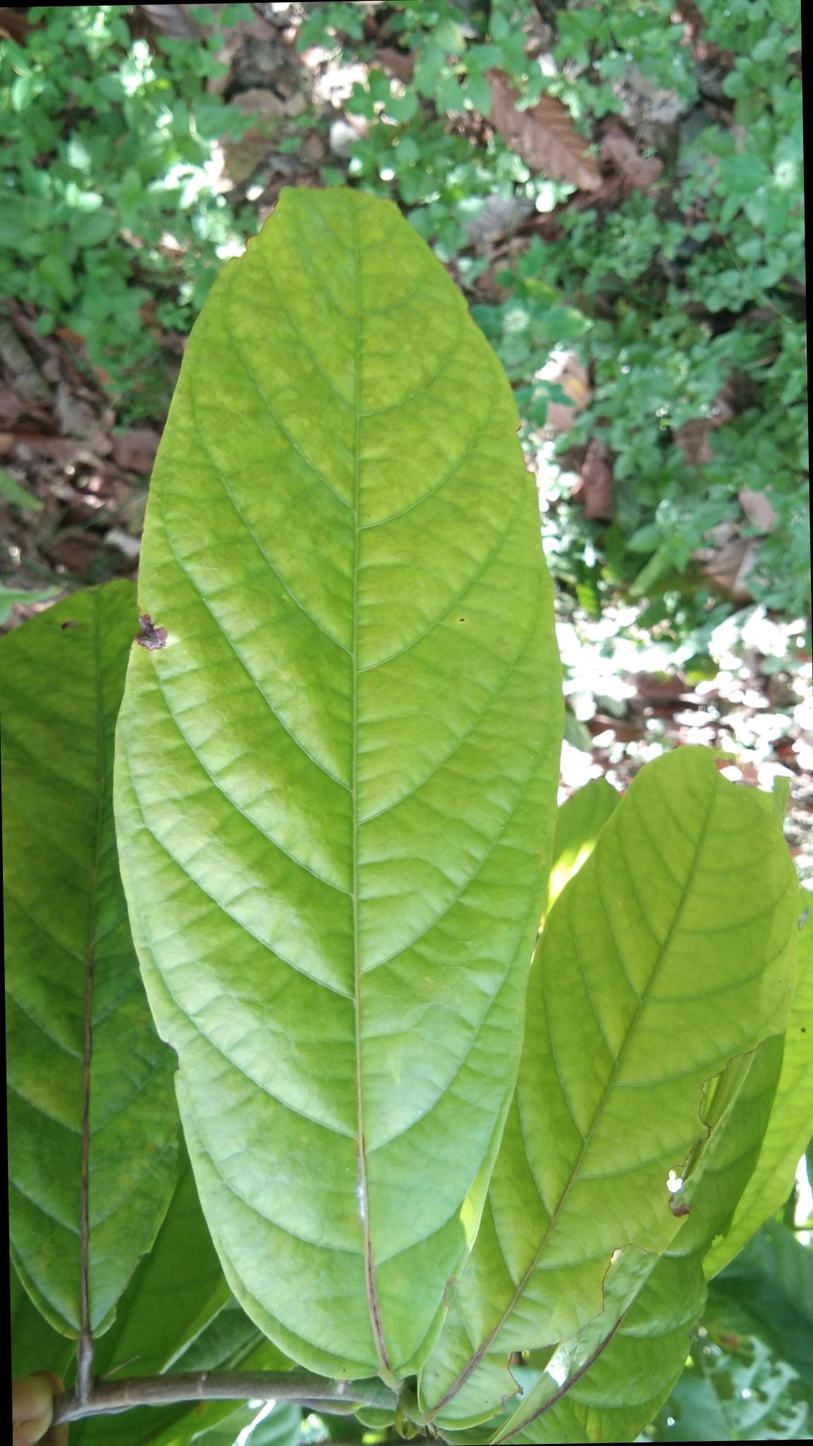Fosforo: (119, 161, 547, 1391)
